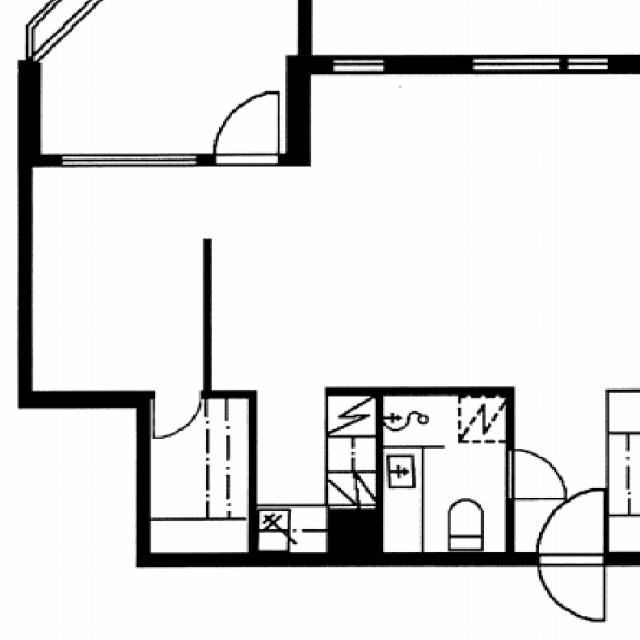door: (538, 494, 603, 565), (538, 552, 603, 623), (215, 98, 278, 166), (506, 450, 566, 497), (154, 392, 200, 441)
